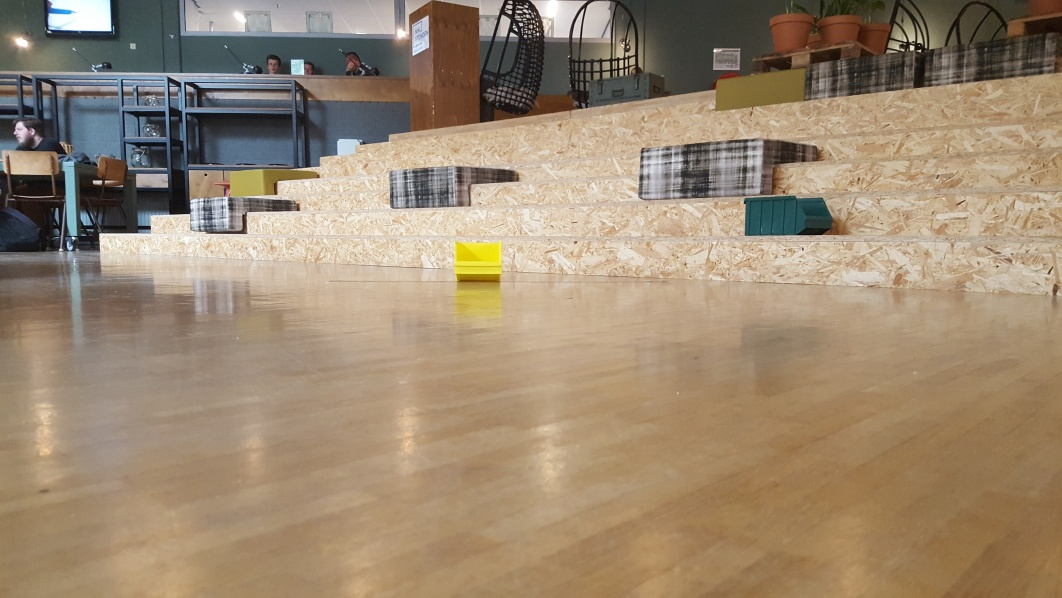tray: (737, 192, 837, 238), (445, 238, 508, 282)
